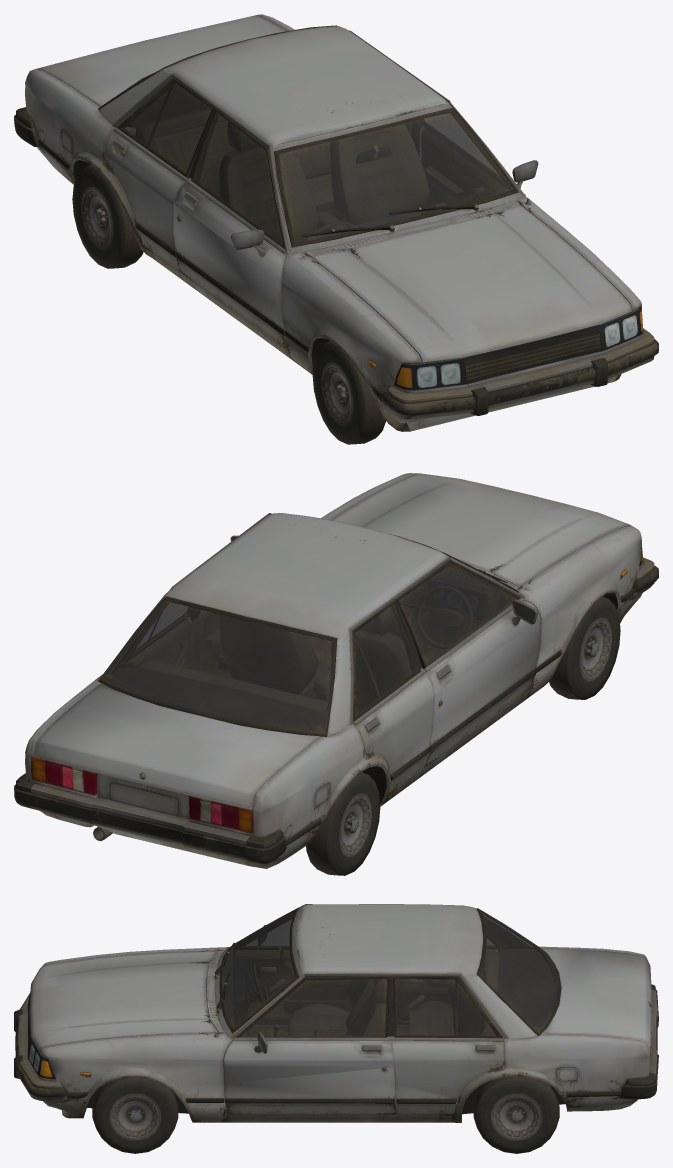
The model's file is car-1.glb.
3 renders of one model, top to bottom at view 1: azimuth 30°, elevation 25°; view 2: azimuth 150°, elevation 25°; view 3: azimuth 270°, elevation 25°, orthographic. The views are drawn at different scales.
Parts seen in each view (by area): view 1: car_noname1_large_car_body_mat_0, car_noname1_large_car_glass_mat_0, car_noname1_large_car_wheels_mat_0; view 2: car_noname1_large_car_body_mat_0, car_noname1_large_car_glass_mat_0, car_noname1_large_car_wheels_mat_0; view 3: car_noname1_large_car_body_mat_0, car_noname1_large_car_glass_mat_0, car_noname1_large_car_wheels_mat_0.
Part boxes in pixels (x1=…): car_noname1_large_car_body_mat_0: x1=14, y1=14, x2=658, y2=431; car_noname1_large_car_glass_mat_0: x1=105, y1=72, x2=513, y2=248; car_noname1_large_car_wheels_mat_0: x1=72, y1=165, x2=595, y2=444; car_noname1_large_car_body_mat_0: x1=14, y1=473, x2=658, y2=868; car_noname1_large_car_glass_mat_0: x1=100, y1=564, x2=517, y2=734; car_noname1_large_car_wheels_mat_0: x1=306, y1=596, x2=620, y2=875; car_noname1_large_car_body_mat_0: x1=14, y1=904, x2=658, y2=1122; car_noname1_large_car_glass_mat_0: x1=223, y1=911, x2=558, y2=1037; car_noname1_large_car_wheels_mat_0: x1=92, y1=1076, x2=559, y2=1153.
Size of the model in its own units: 262 by 179 by 601.
3 materials, 3 textured.
